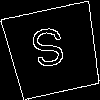S: (28, 25, 70, 78)
